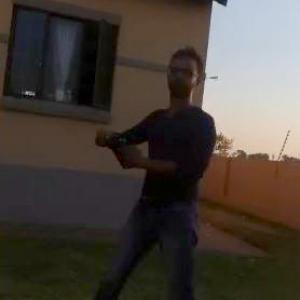follow: (88, 44, 226, 299)
